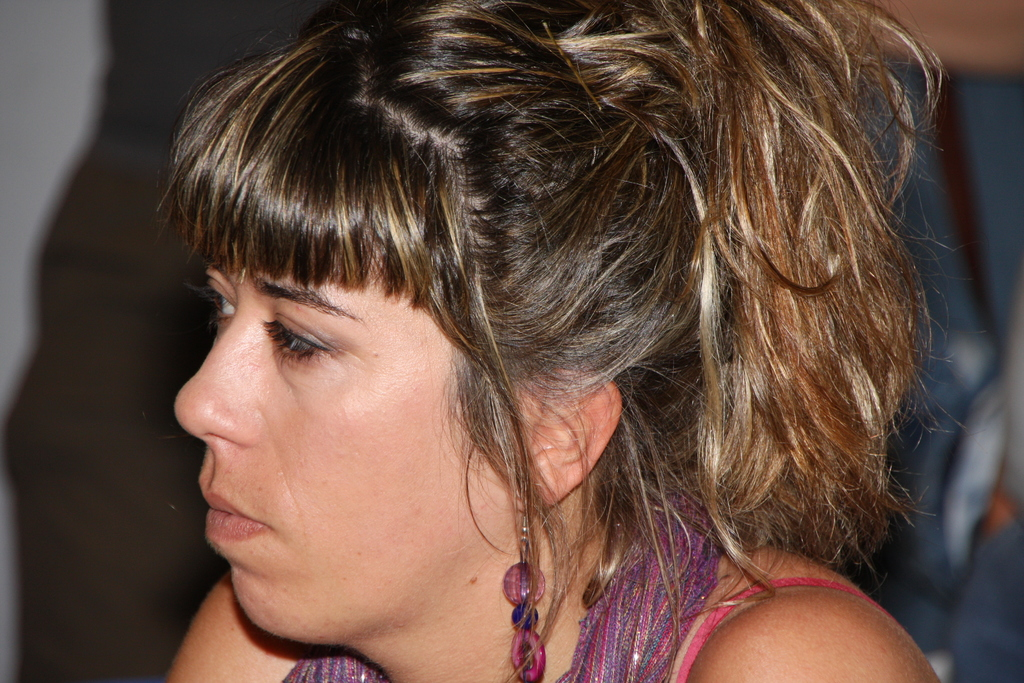Person: (149, 0, 994, 683)
